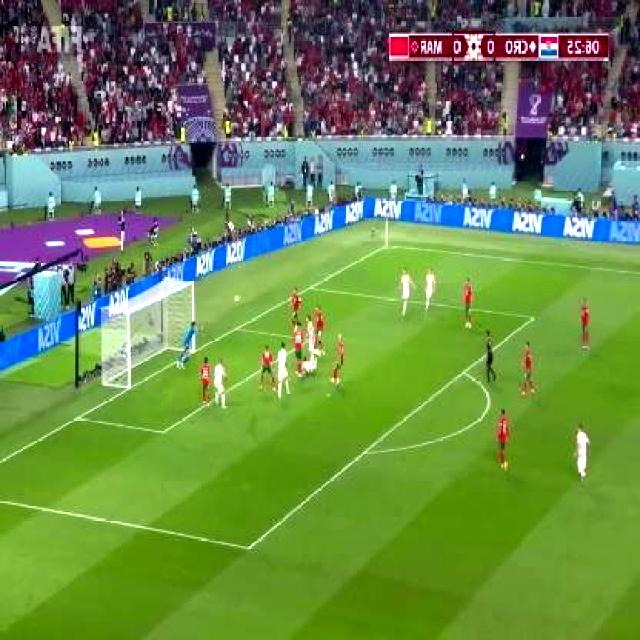bigarea_bottom_inner: (240, 532, 262, 562)
bigarea_top_inner: (528, 306, 543, 326)
bigarea_top_outter: (304, 278, 318, 296)
bottom_arc_area_intersection: (357, 440, 374, 462)
corner: (381, 238, 397, 251)
smallarea_bottom_inner: (154, 417, 174, 445)
smallarea_bottom_outter: (70, 406, 88, 428)
smallarea_top_outter: (231, 318, 246, 336)
top_arc_area_intersection: (457, 362, 472, 380)
